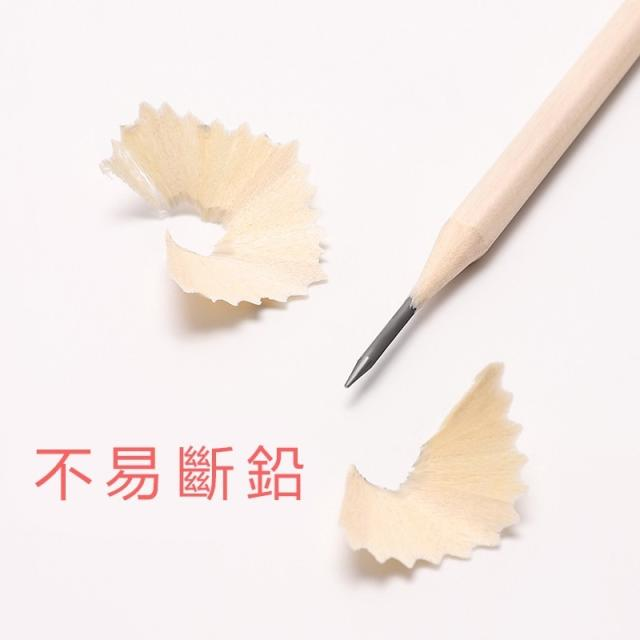pencil: (330, 0, 640, 408)
